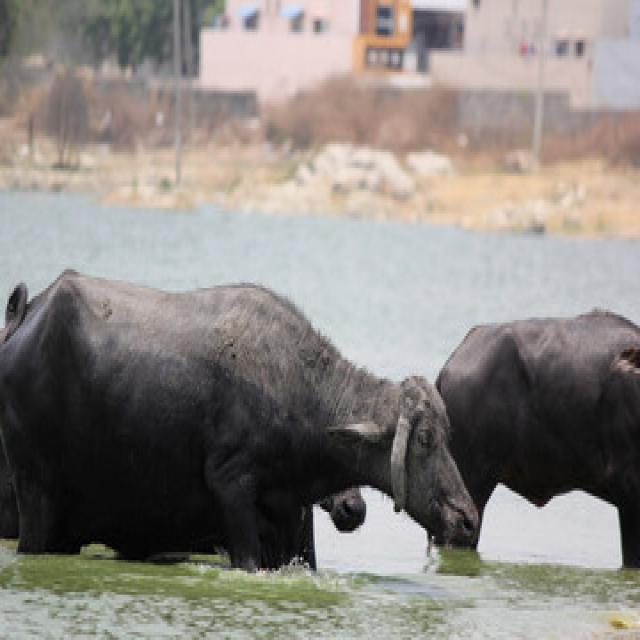Buffalo: (2, 271, 480, 558)
